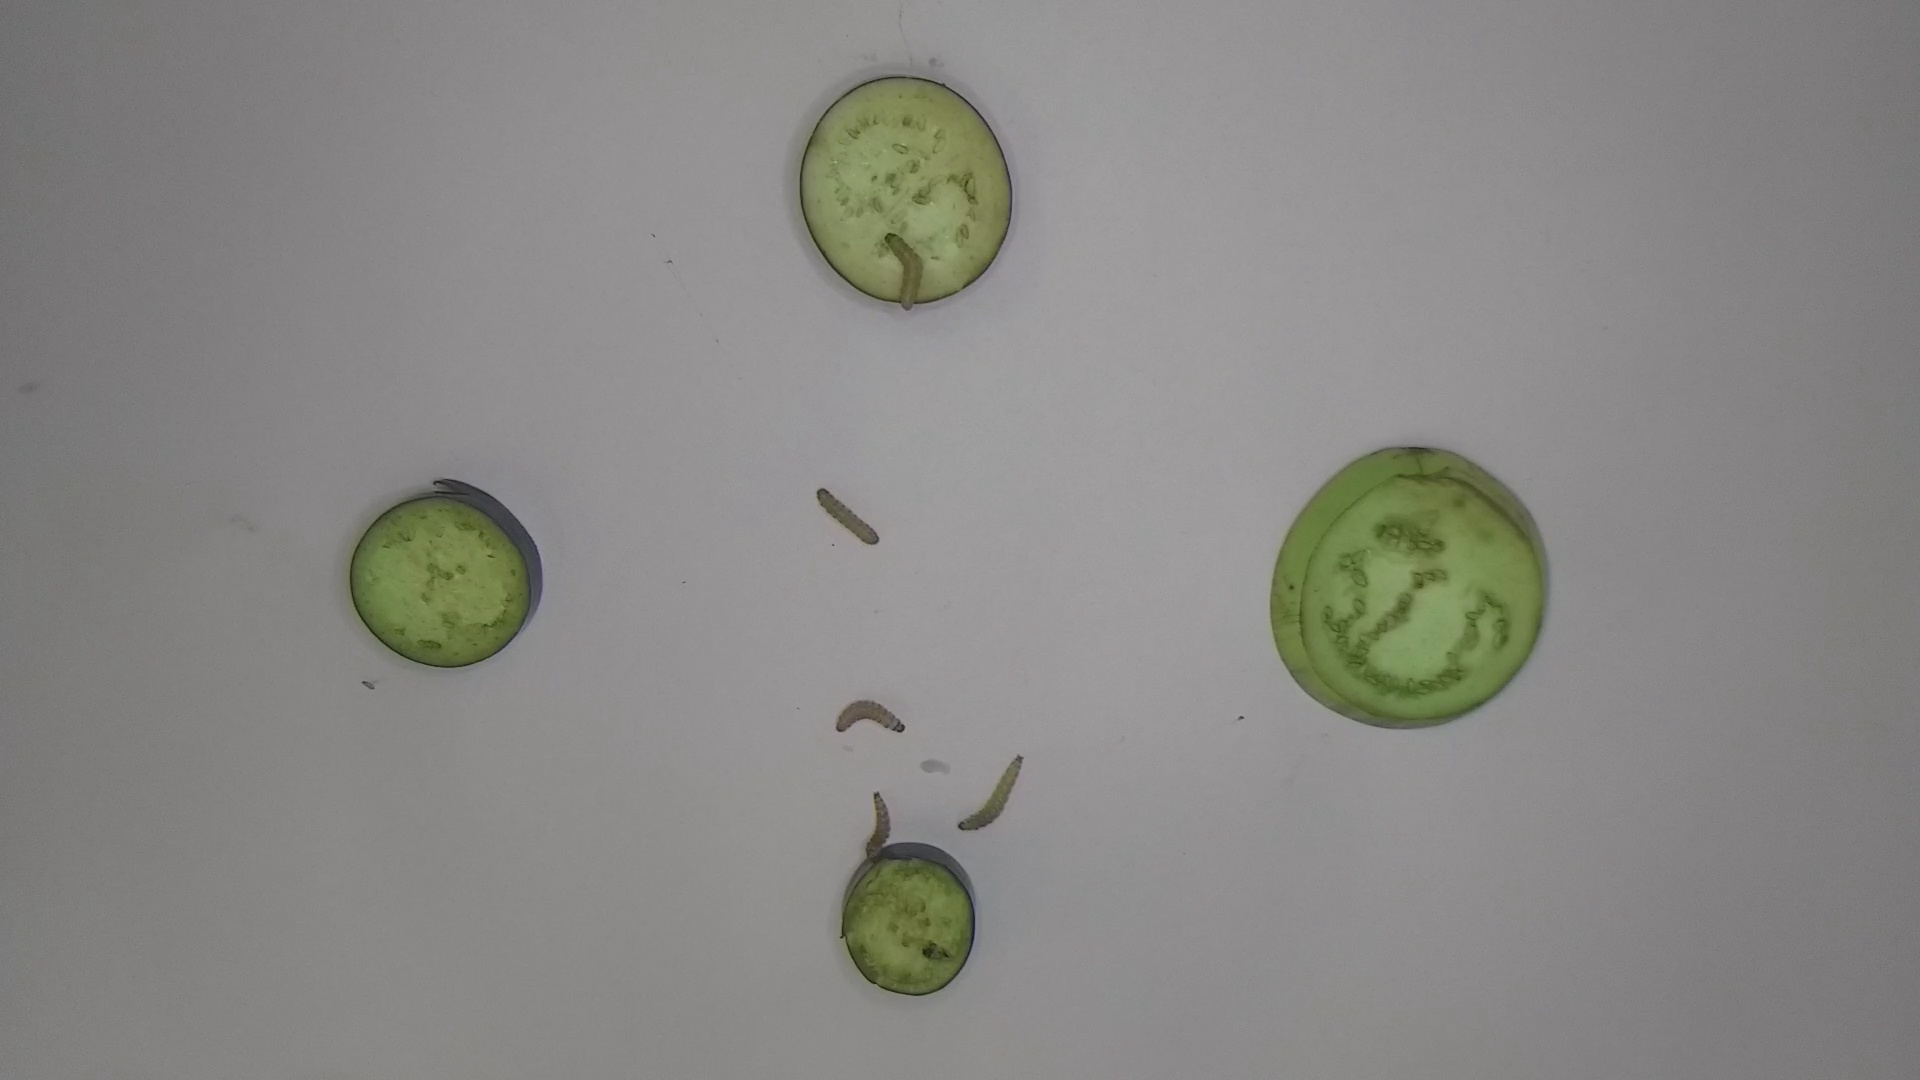efsb: (959, 750, 1029, 836), (811, 484, 887, 549), (884, 224, 927, 319), (833, 696, 909, 740), (862, 787, 898, 860)
eggplant: (1263, 440, 1553, 735), (793, 67, 1022, 311), (343, 465, 554, 675), (833, 839, 982, 1006)
